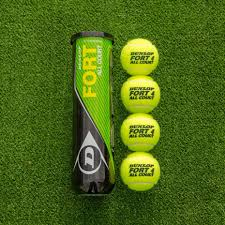tennis_ball: (119, 150, 162, 192), (120, 73, 161, 114), (119, 111, 160, 152), (119, 37, 161, 76)
